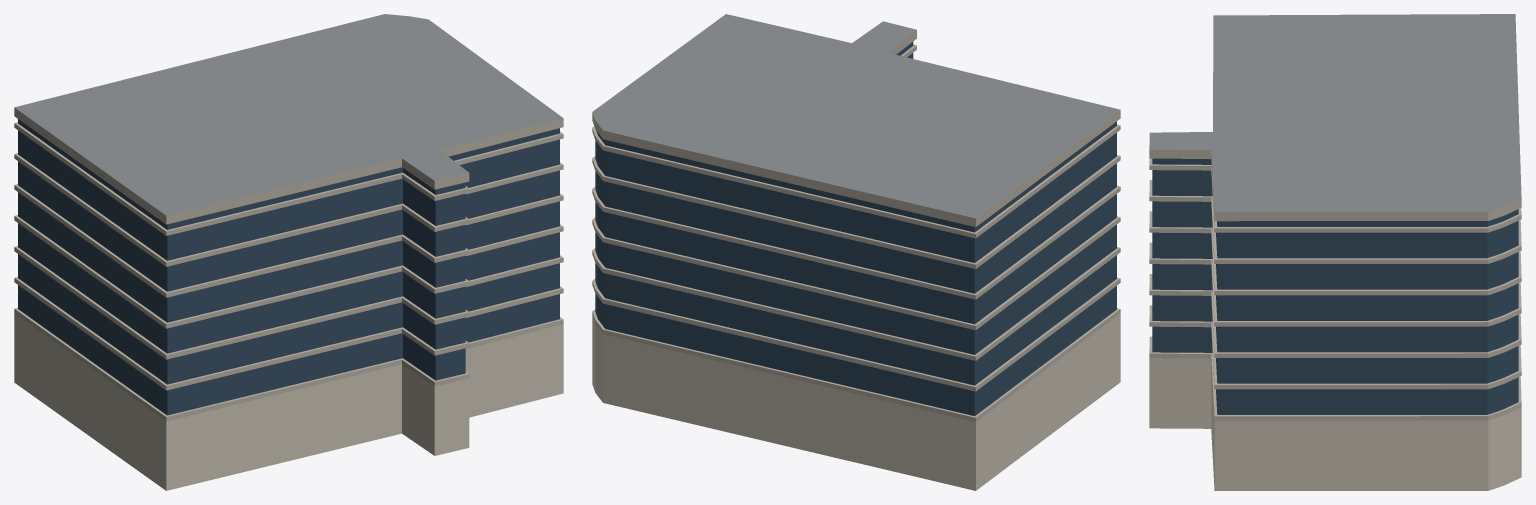
Rendered from 102_tower.glb.
3 renders of one model, left to right at view 1: azimuth 30°, elevation 25°; view 2: azimuth 150°, elevation 25°; view 3: azimuth 270°, elevation 25°, orthographic. The views are drawn at different scales.
Visible parts, largest first — view 1: 102_Tower; view 2: 102_Tower; view 3: 102_Tower.
Boxes of the visible parts, bbox=[...] form: 102_Tower: bbox=[14, 14, 563, 490]; 102_Tower: bbox=[592, 14, 1120, 490]; 102_Tower: bbox=[1149, 14, 1521, 490].
Bounding box in the file's own units: 66.48 × 43.6 × 52.76.
